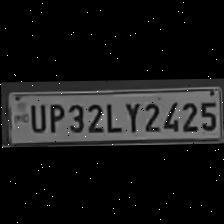2: (138, 98, 160, 132), (83, 98, 103, 132), (176, 96, 196, 130)
3: (63, 100, 83, 132)
4: (158, 96, 180, 130)
5: (196, 96, 218, 130)
L: (100, 98, 120, 132)
P: (43, 98, 63, 132)
U: (24, 100, 44, 132)
Y: (120, 98, 140, 132)
